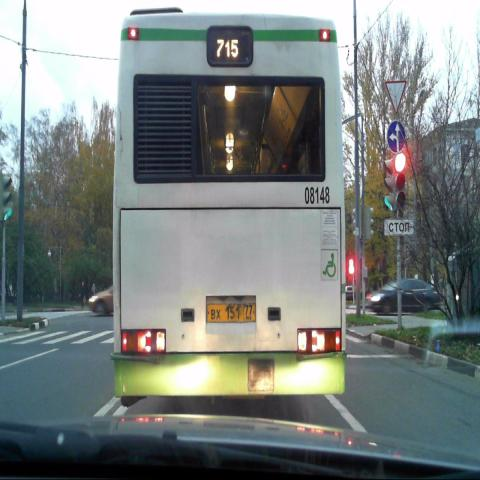4_1_5: (387, 120, 406, 152)
